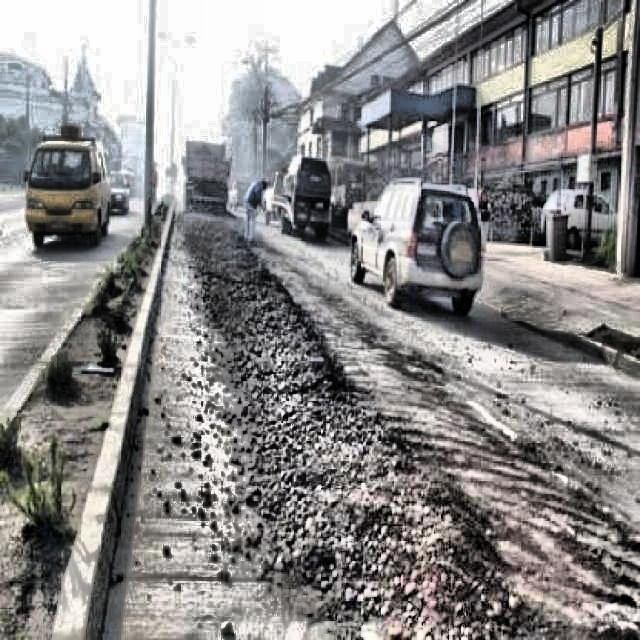dump_truck: (180, 135, 234, 223)
